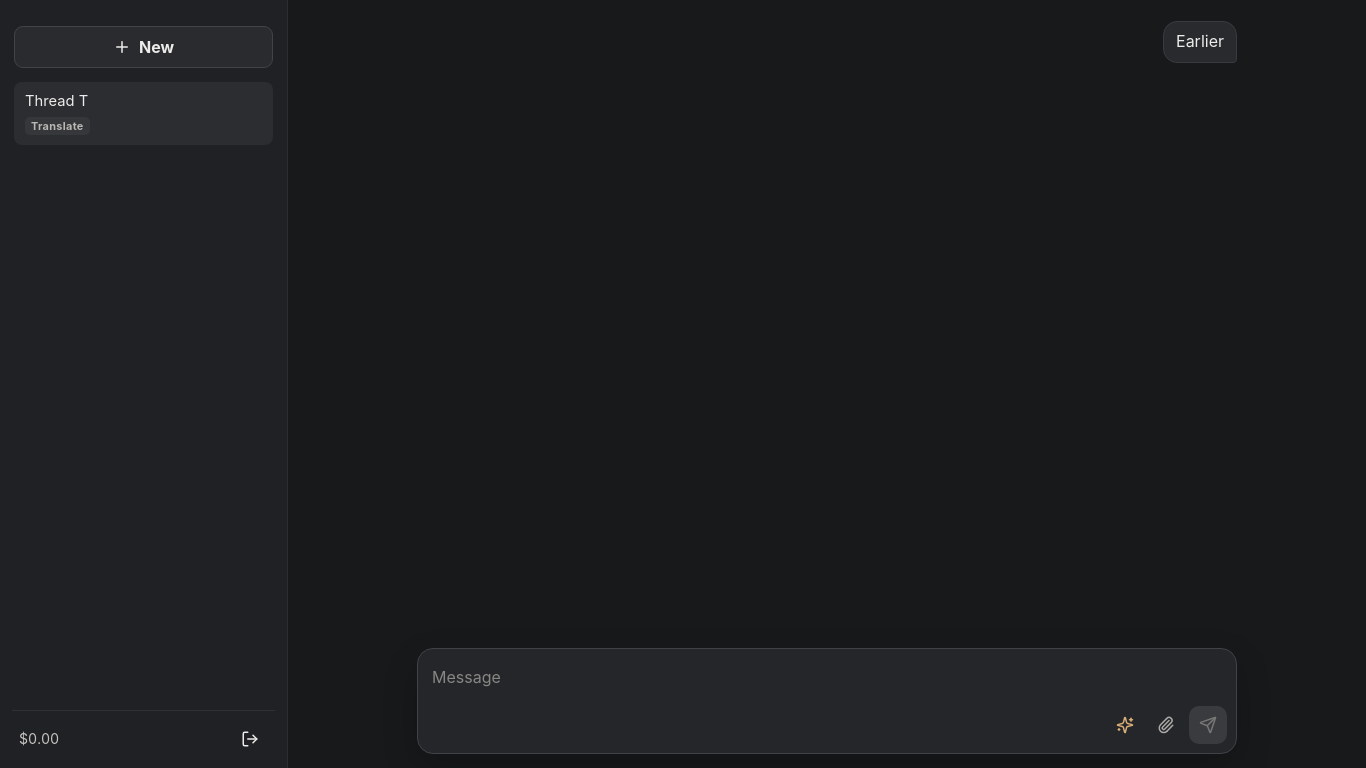
it: L-1 / F-2, F-9: responses cannot land on the wrong conversation › says the outcome is unknown when a proxy answers a send instead of Oveo
Type "Hello" into the text box labelled "Message".
click(764, 701); type("Hello")  # box [430,658,1099,744]
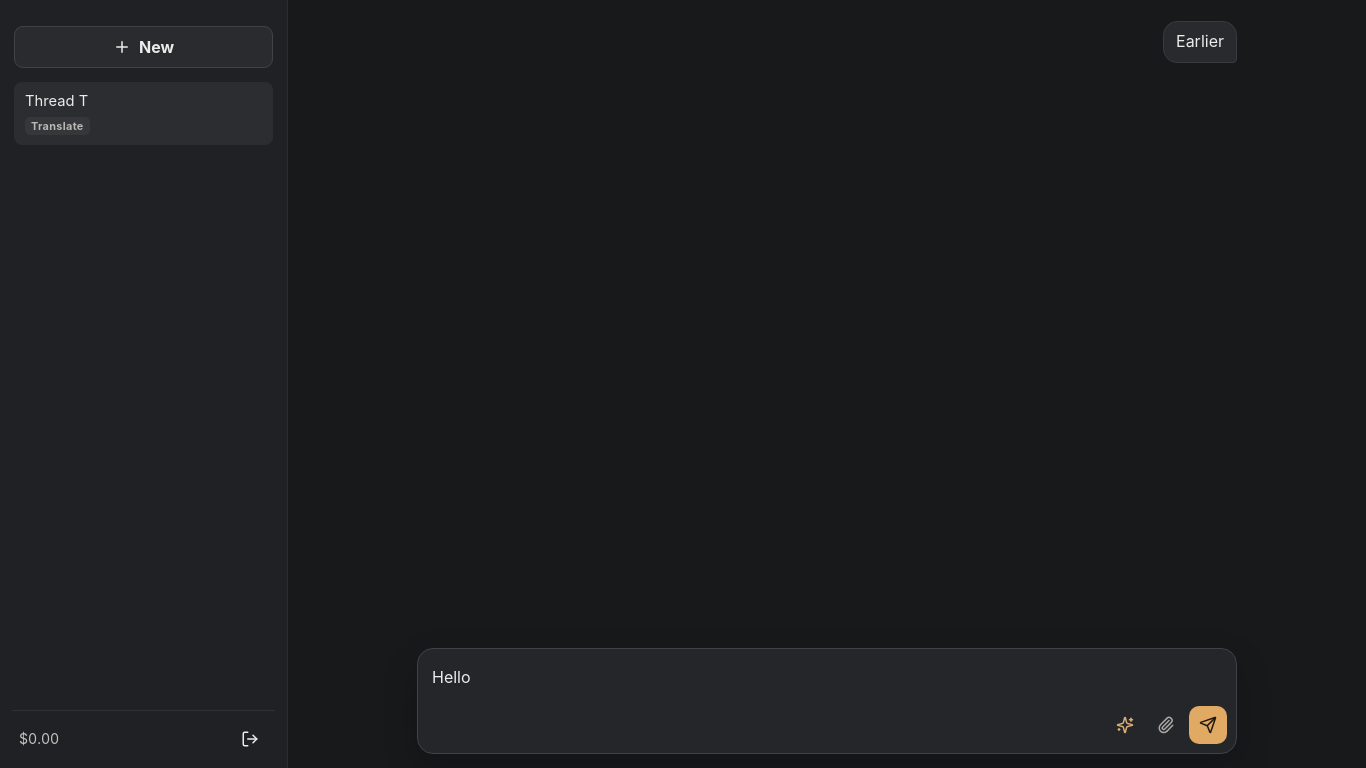
Click the button named "Send message".
click(1208, 725)  # box [1189,706,1227,744]
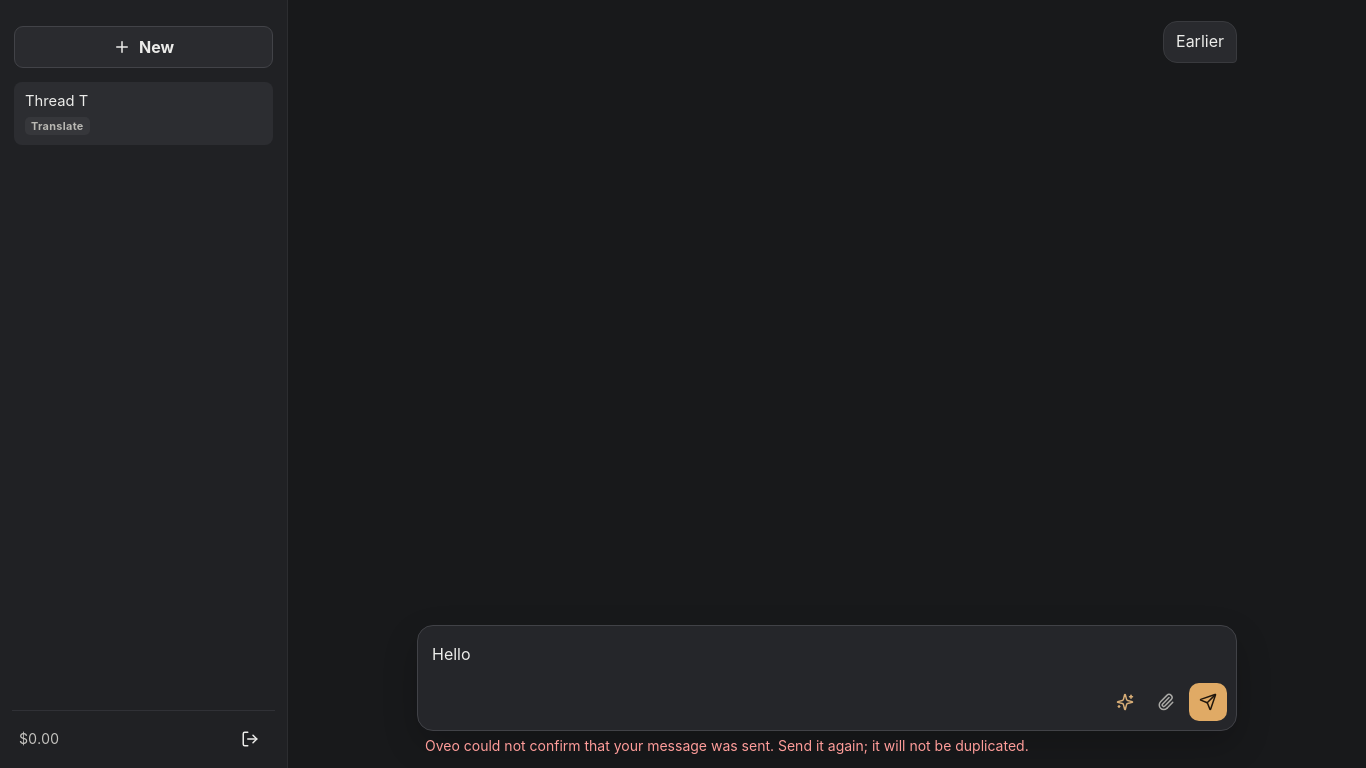
Result: the message shows "could not confirm that your message was sent" at [425,737,1029,754]
